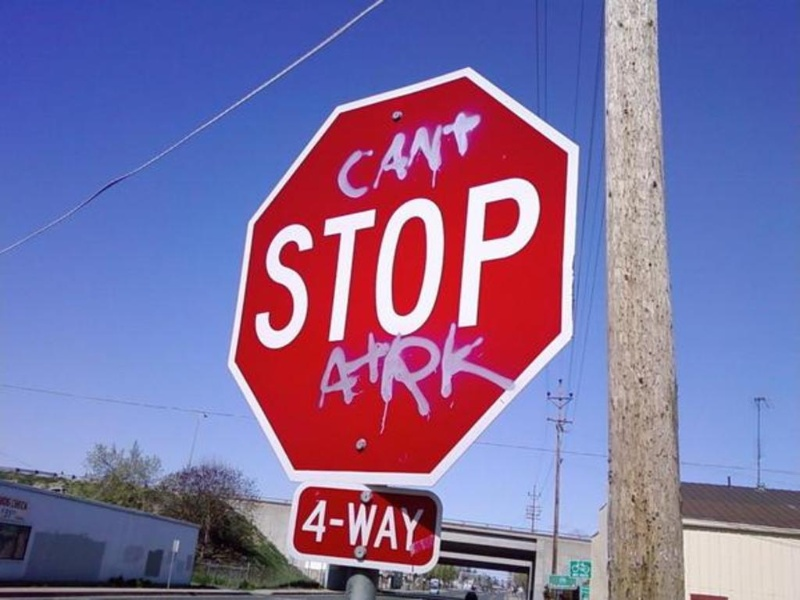stop: (223, 58, 578, 483)
